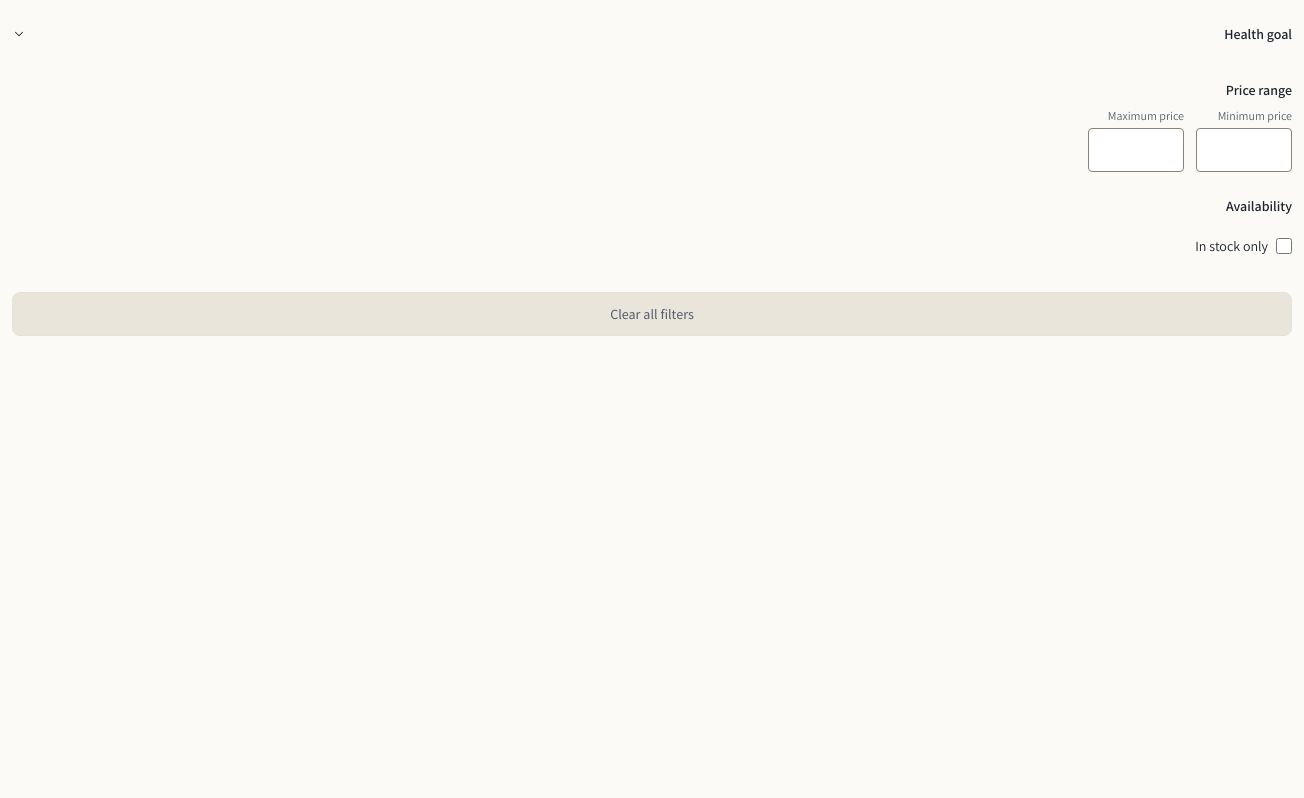
Test case: ISSUE-050/051 — big filter groups are disclosures › the typeahead narrows the VISIBLE list only
The image size is (1304, 798).
Click the button "Health goal". click: {"x": 1258, "y": 34}
box: [12,12,1292,56]
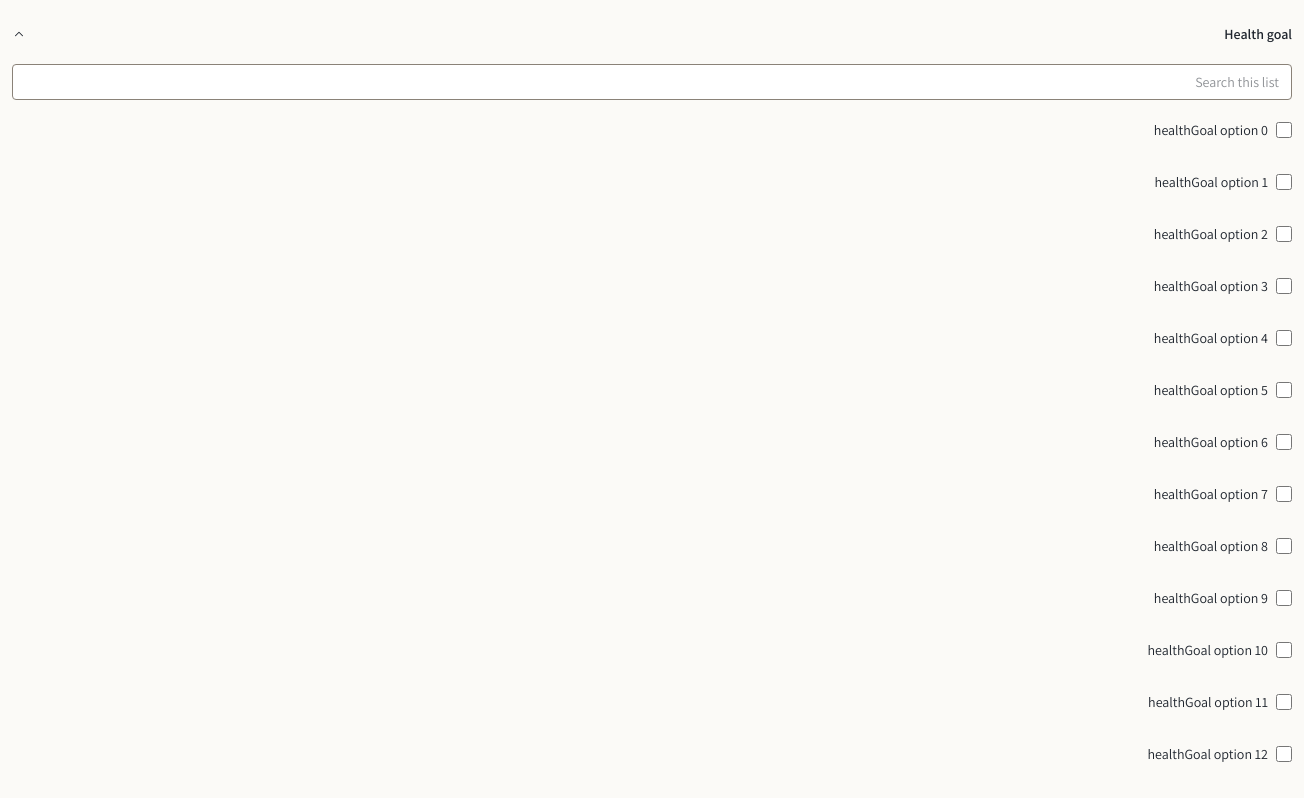
Expected: the number of checkboxes is 21
Type "option 1" into the search field labelled "Search this list". click: {"x": 652, "y": 82}
box: [12,64,1292,100]
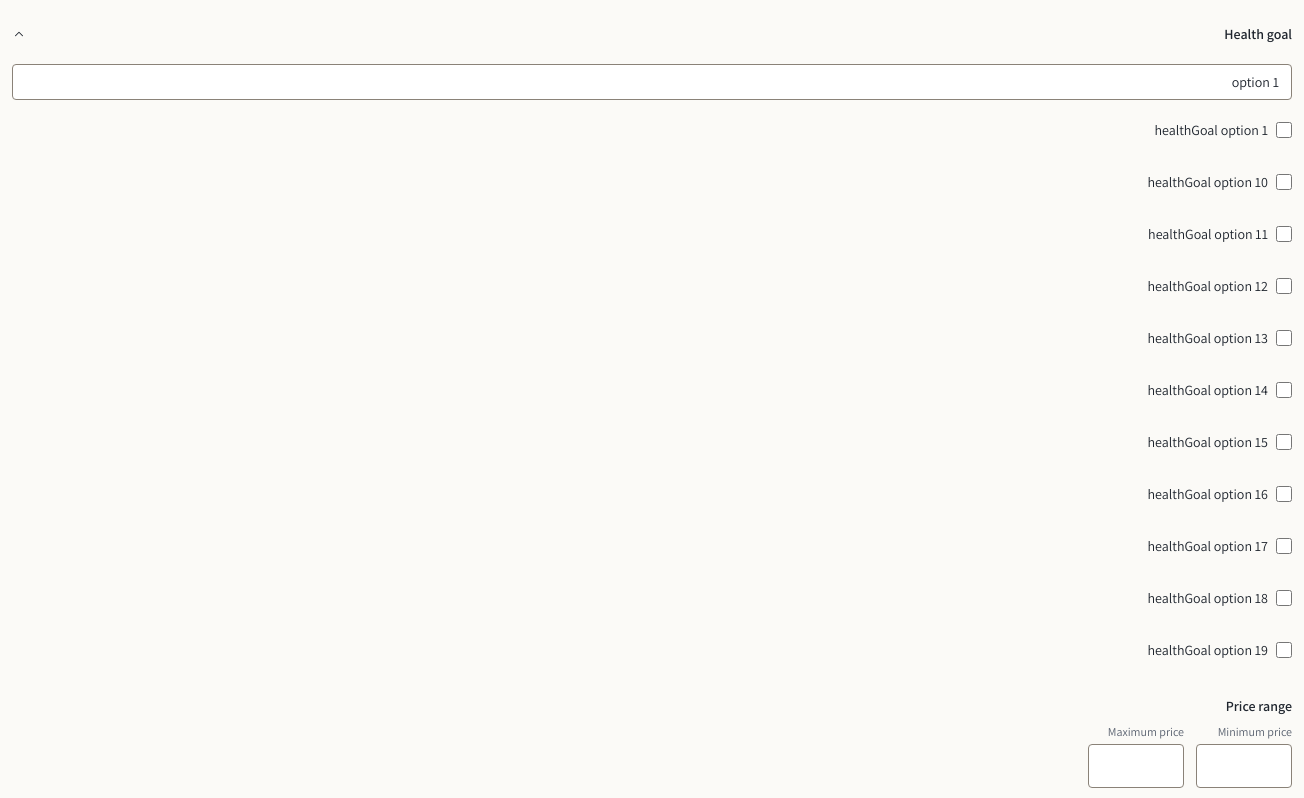
Replace the text in the search field named "Search this list" with "no-such-thing". click: {"x": 652, "y": 82}
box: [12,64,1292,100]
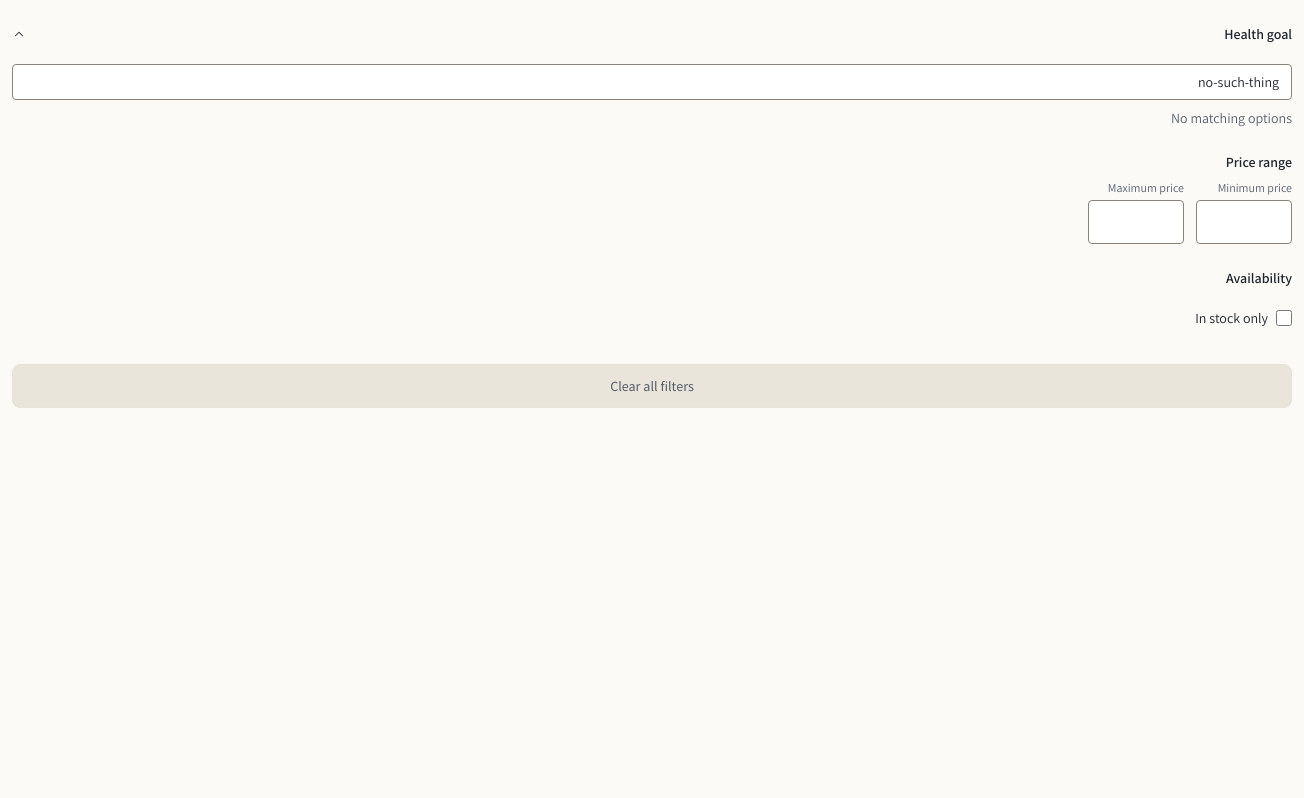
Expected: the text "No matching options" is shown, [1171,109,1292,127]
